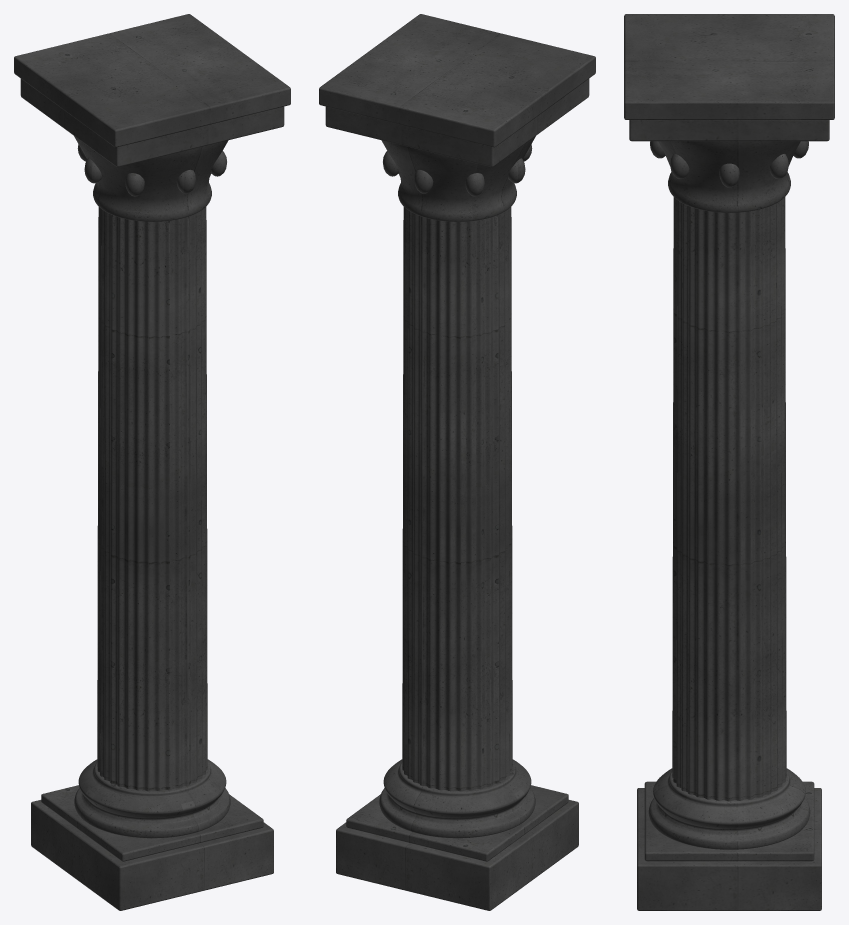
Rendered from Column_Gothic.gltf.
3 renders of one model, left to right at view 1: azimuth 30°, elevation 25°; view 2: azimuth 150°, elevation 25°; view 3: azimuth 270°, elevation 25°, orthographic. The views are drawn at different scales.
Parts seen in each view (by area): view 1: Column_Gothic_Body; view 2: Column_Gothic_Body; view 3: Column_Gothic_Body.
Part boxes in pixels (<box>): Column_Gothic_Body: <box>14,14,290,910</box>; Column_Gothic_Body: <box>319,14,595,910</box>; Column_Gothic_Body: <box>624,14,834,910</box>.
Size of what is drawn, in the model's own units: 0.82 by 3.5 by 0.82.
Materials: 1 (1 with a texture image).
